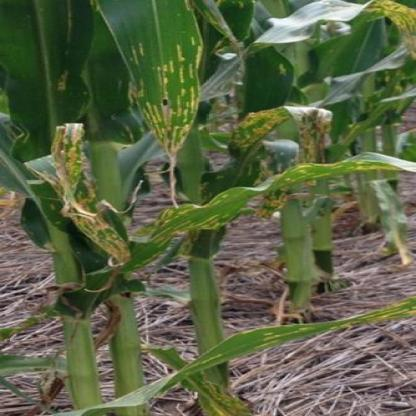Corn leaf blight: (95, 150, 411, 300), (89, 295, 414, 415), (96, 1, 204, 193), (30, 123, 132, 287)
